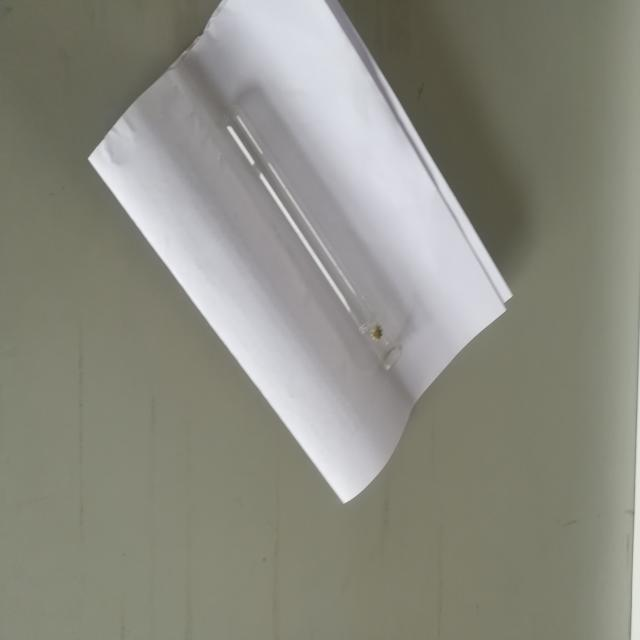Test_Tube: (202, 91, 418, 404)
